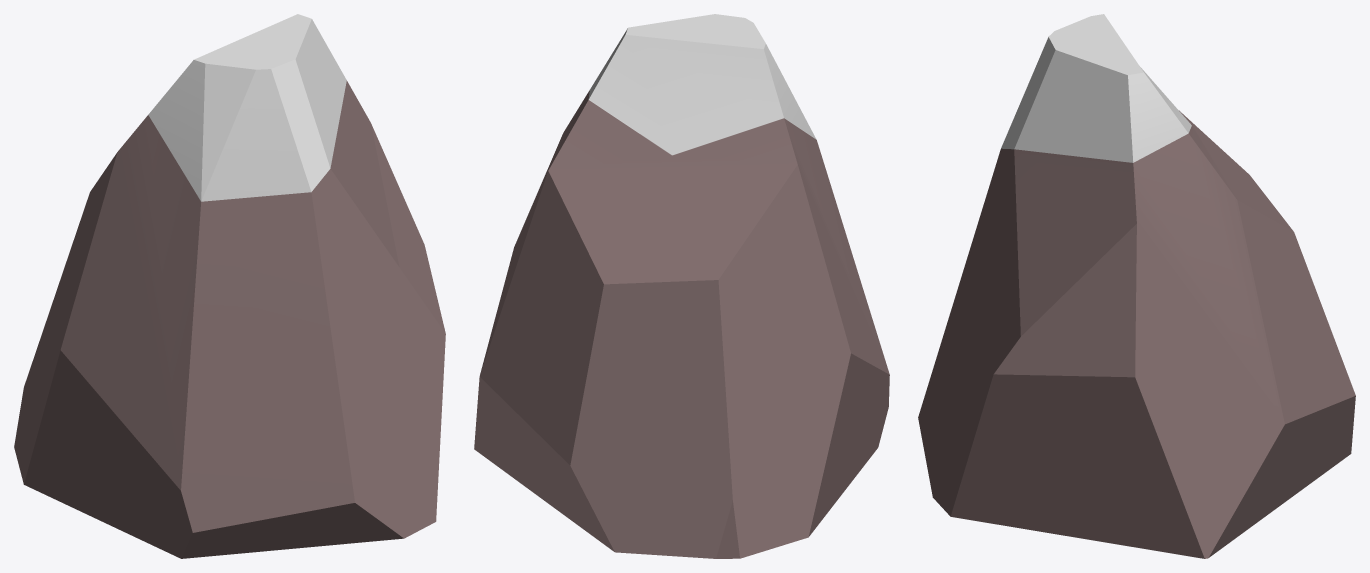
The model's file is rock2.fbx.
3 renders of one model, left to right at view 1: azimuth 30°, elevation 25°; view 2: azimuth 150°, elevation 25°; view 3: azimuth 270°, elevation 25°, orthographic. The views are drawn at different scales.
Visible parts, largest first — view 1: 柱体.001; view 2: 柱体.001; view 3: 柱体.001.
Part boxes in pixels (<box>): 柱体.001: <box>14,14,445,558</box>; 柱体.001: <box>474,14,889,558</box>; 柱体.001: <box>918,14,1355,558</box>.
Bounding box in the file's own units: 146 × 169 × 157.
